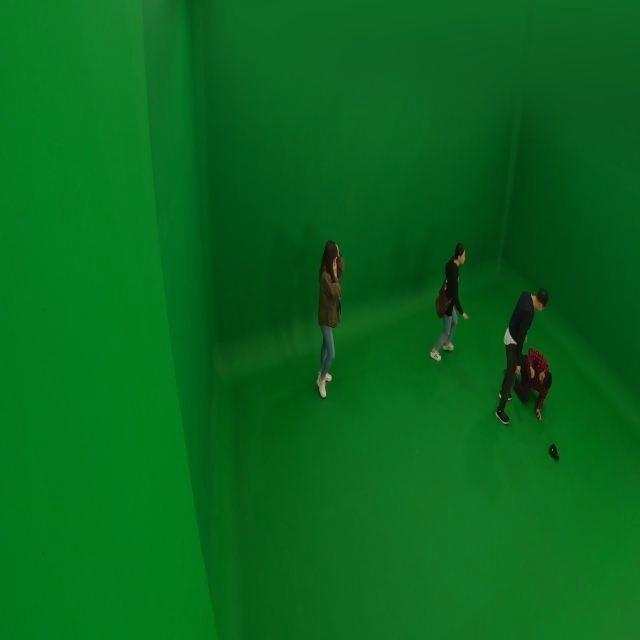fight: (493, 285, 556, 425)
non-fight: (427, 243, 470, 363), (313, 239, 345, 398)
